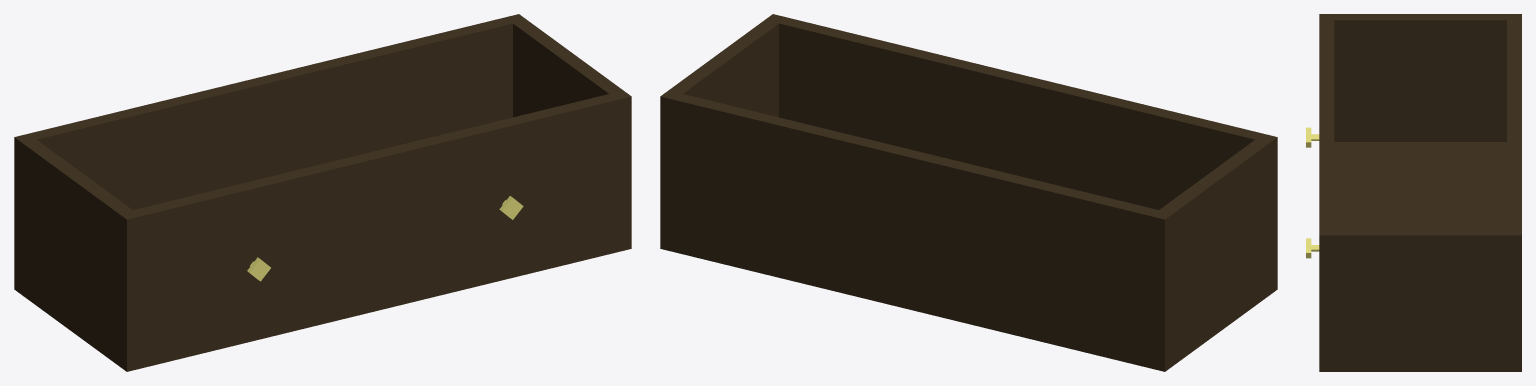
Rendered from Itr_Wardrobe1_Drawer_02.FBX.
3 renders of one model, left to right at view 1: azimuth 30°, elevation 25°; view 2: azimuth 150°, elevation 25°; view 3: azimuth 270°, elevation 25°, orthographic. The views are drawn at different scales.
Parts seen in each view (by area): view 1: Itr_Wardrobe1_Drawer_02; view 2: Itr_Wardrobe1_Drawer_02; view 3: Itr_Wardrobe1_Drawer_02.
Part boxes in pixels (bbox=[...]): Itr_Wardrobe1_Drawer_02: bbox=[14, 14, 631, 371]; Itr_Wardrobe1_Drawer_02: bbox=[660, 14, 1277, 371]; Itr_Wardrobe1_Drawer_02: bbox=[1306, 14, 1521, 371].
Size of the model in its own units: 40.74 by 11.75 by 16.8.
